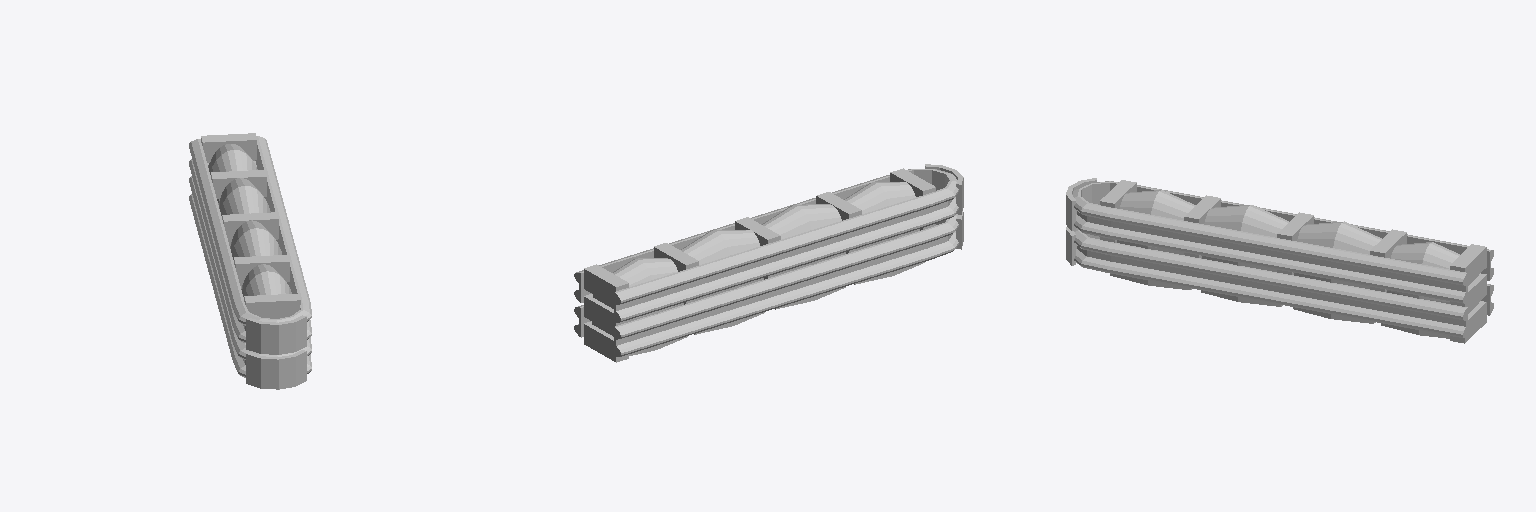
Rendered from Road8_2_14.obj.
The picture shows the model from 3 angles: view 1: azimuth 30°, elevation 25°; view 2: azimuth 150°, elevation 25°; view 3: azimuth 270°, elevation 25°; orthographic projection.
Parts seen in each view (by area): view 1: GSDAtten_Static(Clone); view 2: GSDAtten_Static(Clone); view 3: GSDAtten_Static(Clone).
Part boxes in pixels (x1,y1,x2,y2): GSDAtten_Static(Clone): (189,133,311,389); GSDAtten_Static(Clone): (574,164,963,362); GSDAtten_Static(Clone): (1066,178,1493,343).
Bounding box in the file's own units: 2.1 × 0.8398 × 3.81.